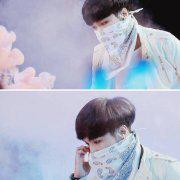OK: (92, 15, 129, 52)
WRONG: (85, 134, 123, 171)
